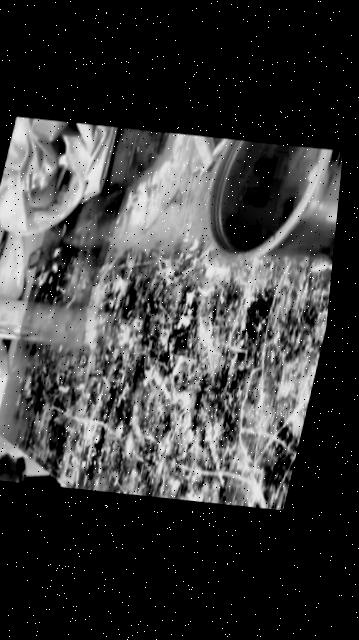pot: (190, 132, 345, 272)
